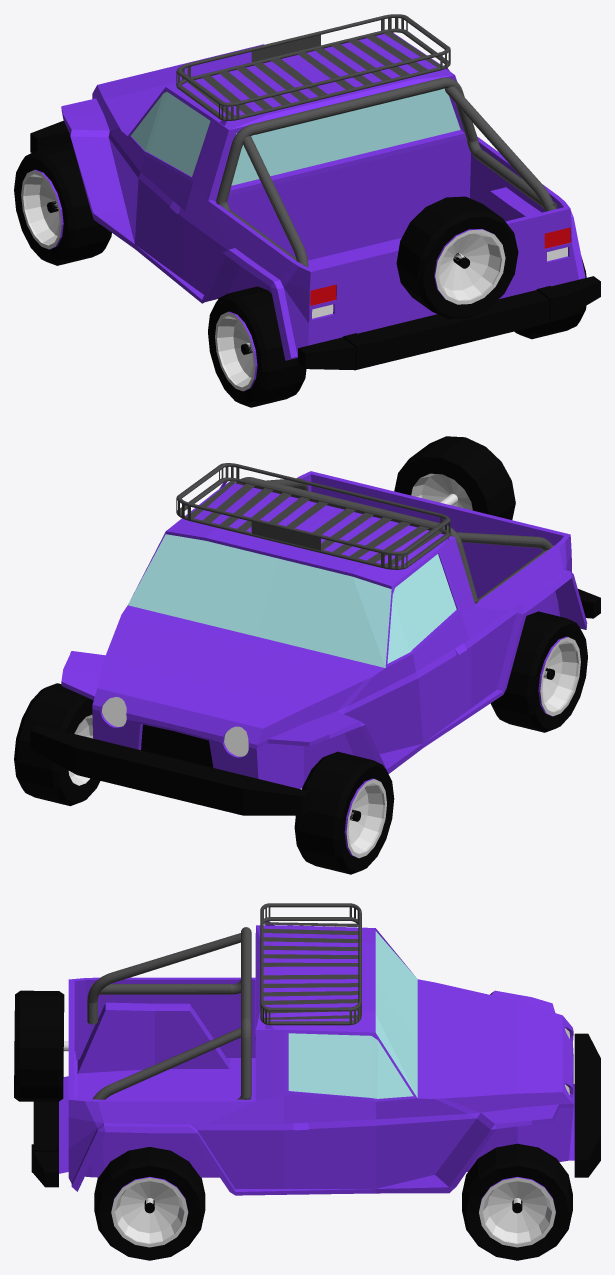
The model's file is jeep.gltf.
3 views of the same model, one above another, from view 1: azimuth 30°, elevation 25°; view 2: azimuth 150°, elevation 25°; view 3: azimuth 270°, elevation 25° (orthographic). The views are drawn at different scales.
Parts seen in each view (by area): view 1: Carosserie, RoueS, PorteBagages, RouesAR, Coffre, RouesAV; view 2: Carosserie, RouesAV, PorteBagages, RouesAR, RoueS, Coffre; view 3: Carosserie, RouesAV, RouesAR, PorteBagages, Coffre, RoueS.
Boxes of the visible parts, x1=… form: Carosserie: x1=30, y1=32, x2=600, y2=370; RoueS: x1=396, y1=196, x2=518, y2=319; PorteBagages: x1=176, y1=14, x2=450, y2=120; RouesAR: x1=208, y1=256, x2=586, y2=407; Coffre: x1=216, y1=77, x2=557, y2=267; RouesAV: x1=14, y1=143, x2=111, y2=265; Carosserie: x1=30, y1=471, x2=600, y2=815; RouesAV: x1=14, y1=683, x2=394, y2=874; PorteBagages: x1=176, y1=463, x2=450, y2=569; RouesAR: x1=490, y1=611, x2=587, y2=732; RoueS: x1=394, y1=436, x2=515, y2=519; Coffre: x1=235, y1=477, x2=553, y2=603; Carosserie: x1=31, y1=921, x2=600, y2=1195; RouesAV: x1=462, y1=1143, x2=572, y2=1260; RouesAR: x1=94, y1=1147, x2=205, y2=1260; PorteBagages: x1=260, y1=903, x2=361, y2=1025; Coffre: x1=87, y1=927, x2=251, y2=1099; RoueS: x1=14, y1=990, x2=68, y2=1101.
Size of the model in its own units: 5.35 by 3.84 by 8.81.
